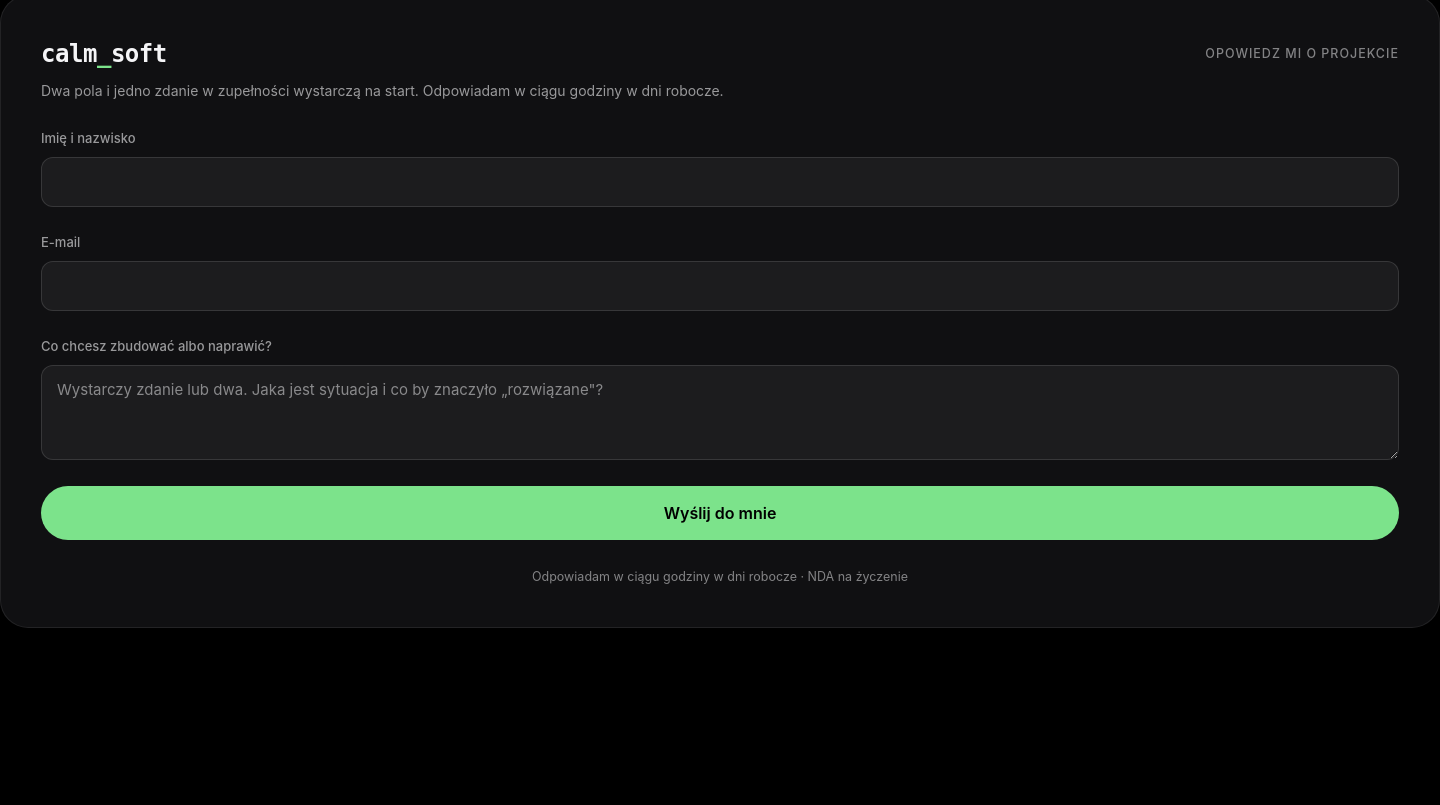
Scenario: ContactForm step 2 — optional qualifying details (SPEC §14.2) › success panel shows the area/budget/phone details fields and the skip affordance, none preselected
The width and height of the screenshot is (1440, 805).
Type "Anna Nowak" into the field labelled "Imię i nazwisko" at [720, 182], box [41, 156, 1399, 207]
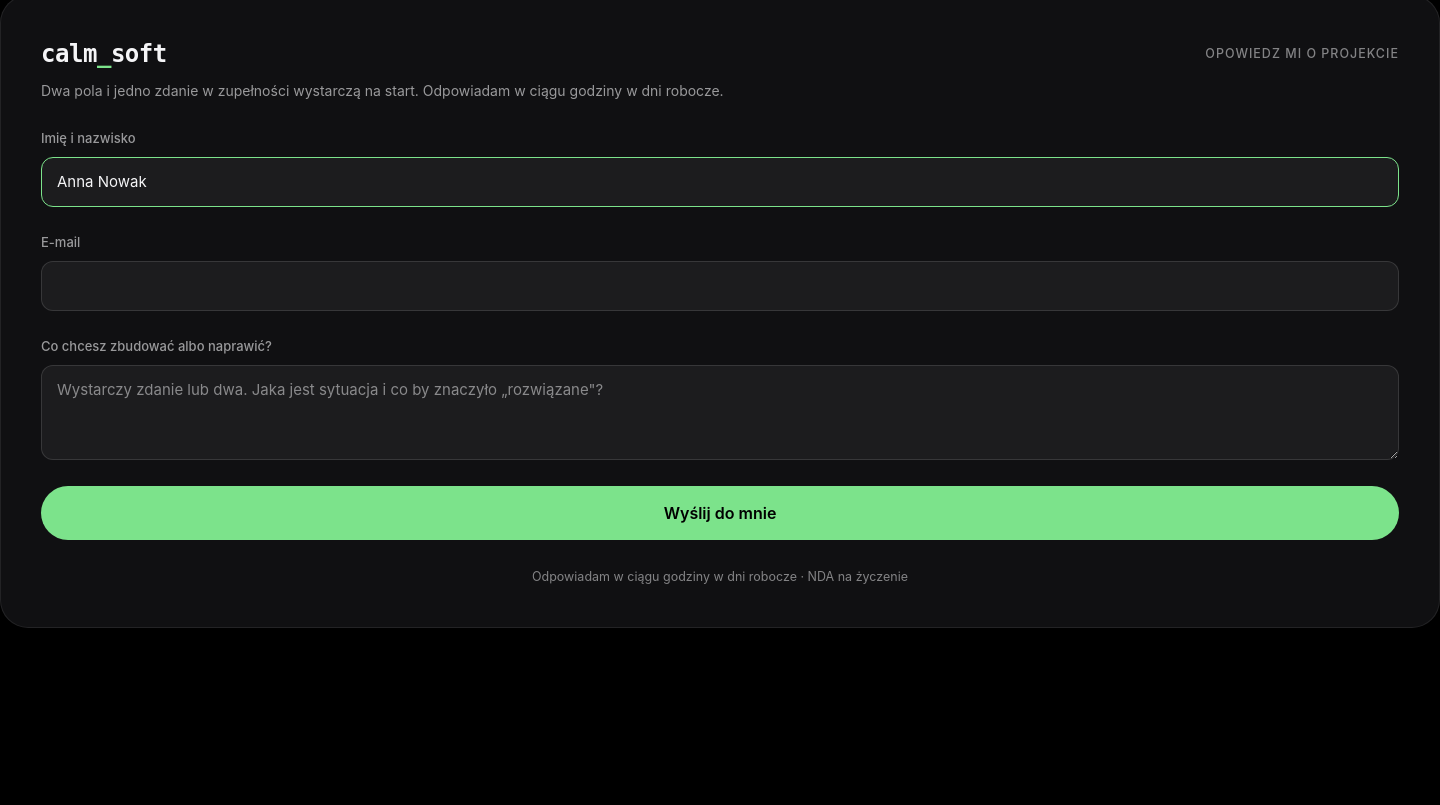
Type "anna@example.com" into the field labelled "E-mail" at [720, 286], box [41, 260, 1399, 311]
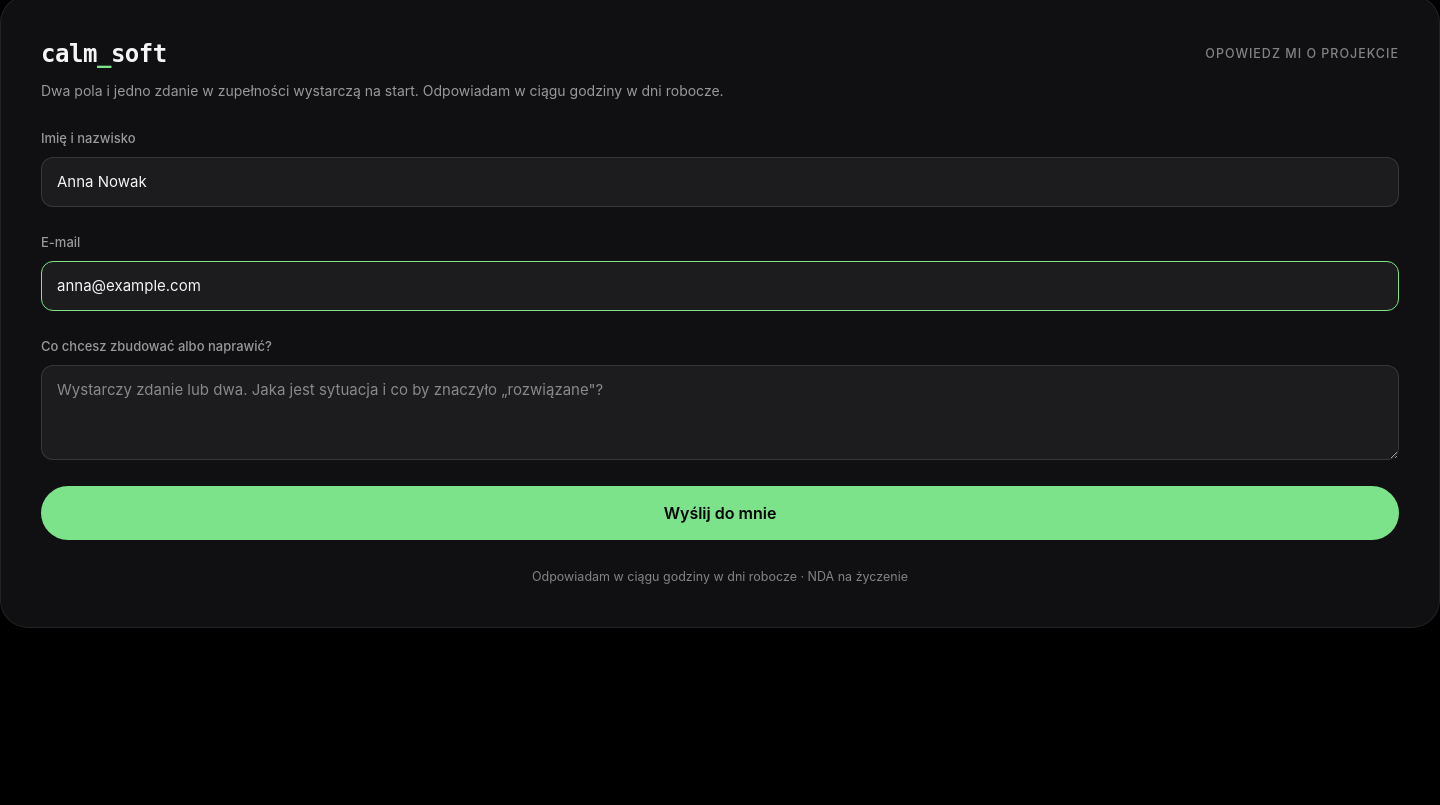
Type "We need a new platform." into the text box labelled "Co chcesz zbudować albo naprawić?" at [720, 412], box [41, 364, 1399, 460]
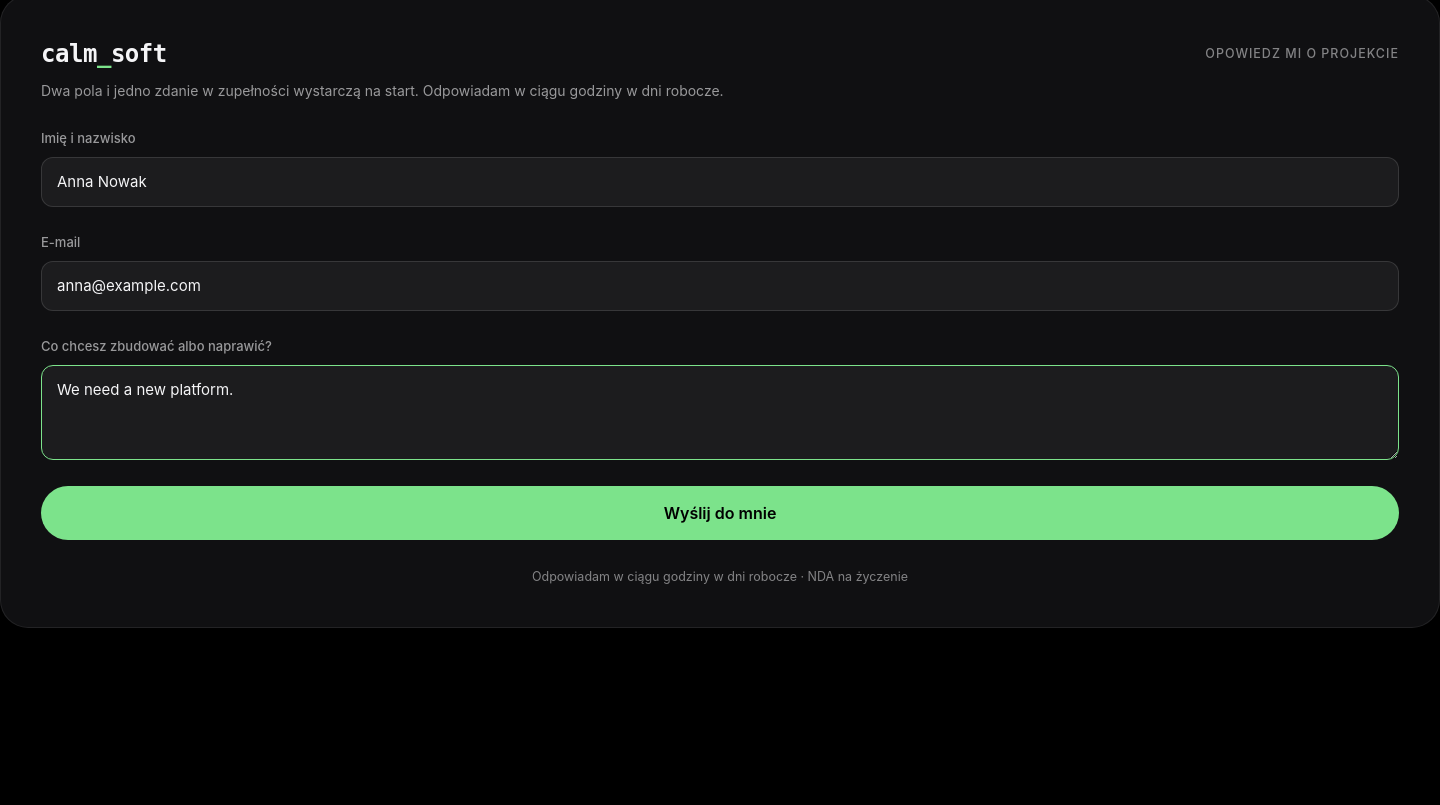
Click the button "Wyślij do mnie" at [720, 513], box [41, 486, 1399, 540]
(page scrolled)
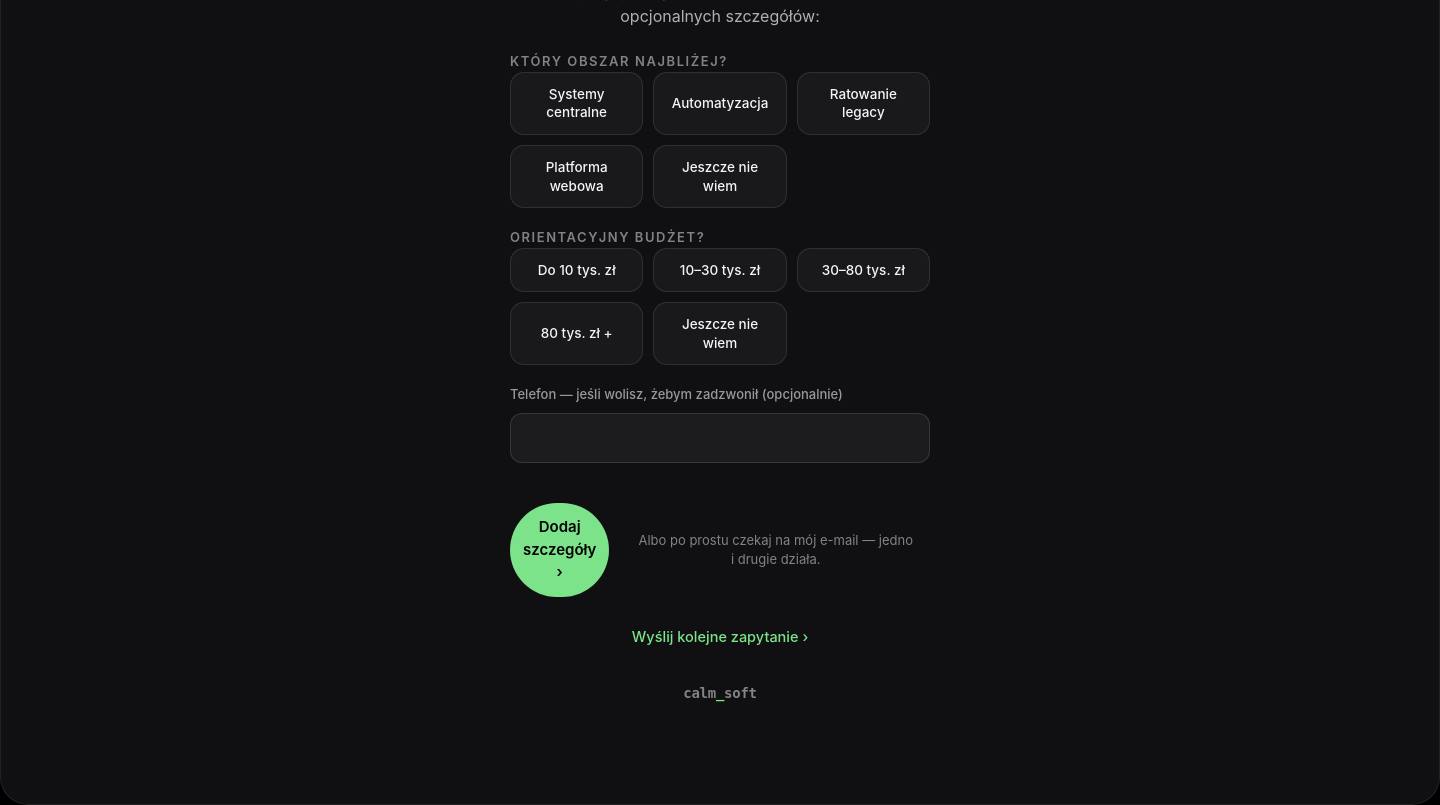
Check: the element "Który obszar najbliżej?" is shown, box [510, 52, 930, 208]
Check: the radio button labelled "Systemy centralne" is not checked, box [510, 72, 643, 135]
Check: the radio button labelled "Automatyzacja" is not checked, box [653, 72, 787, 135]
